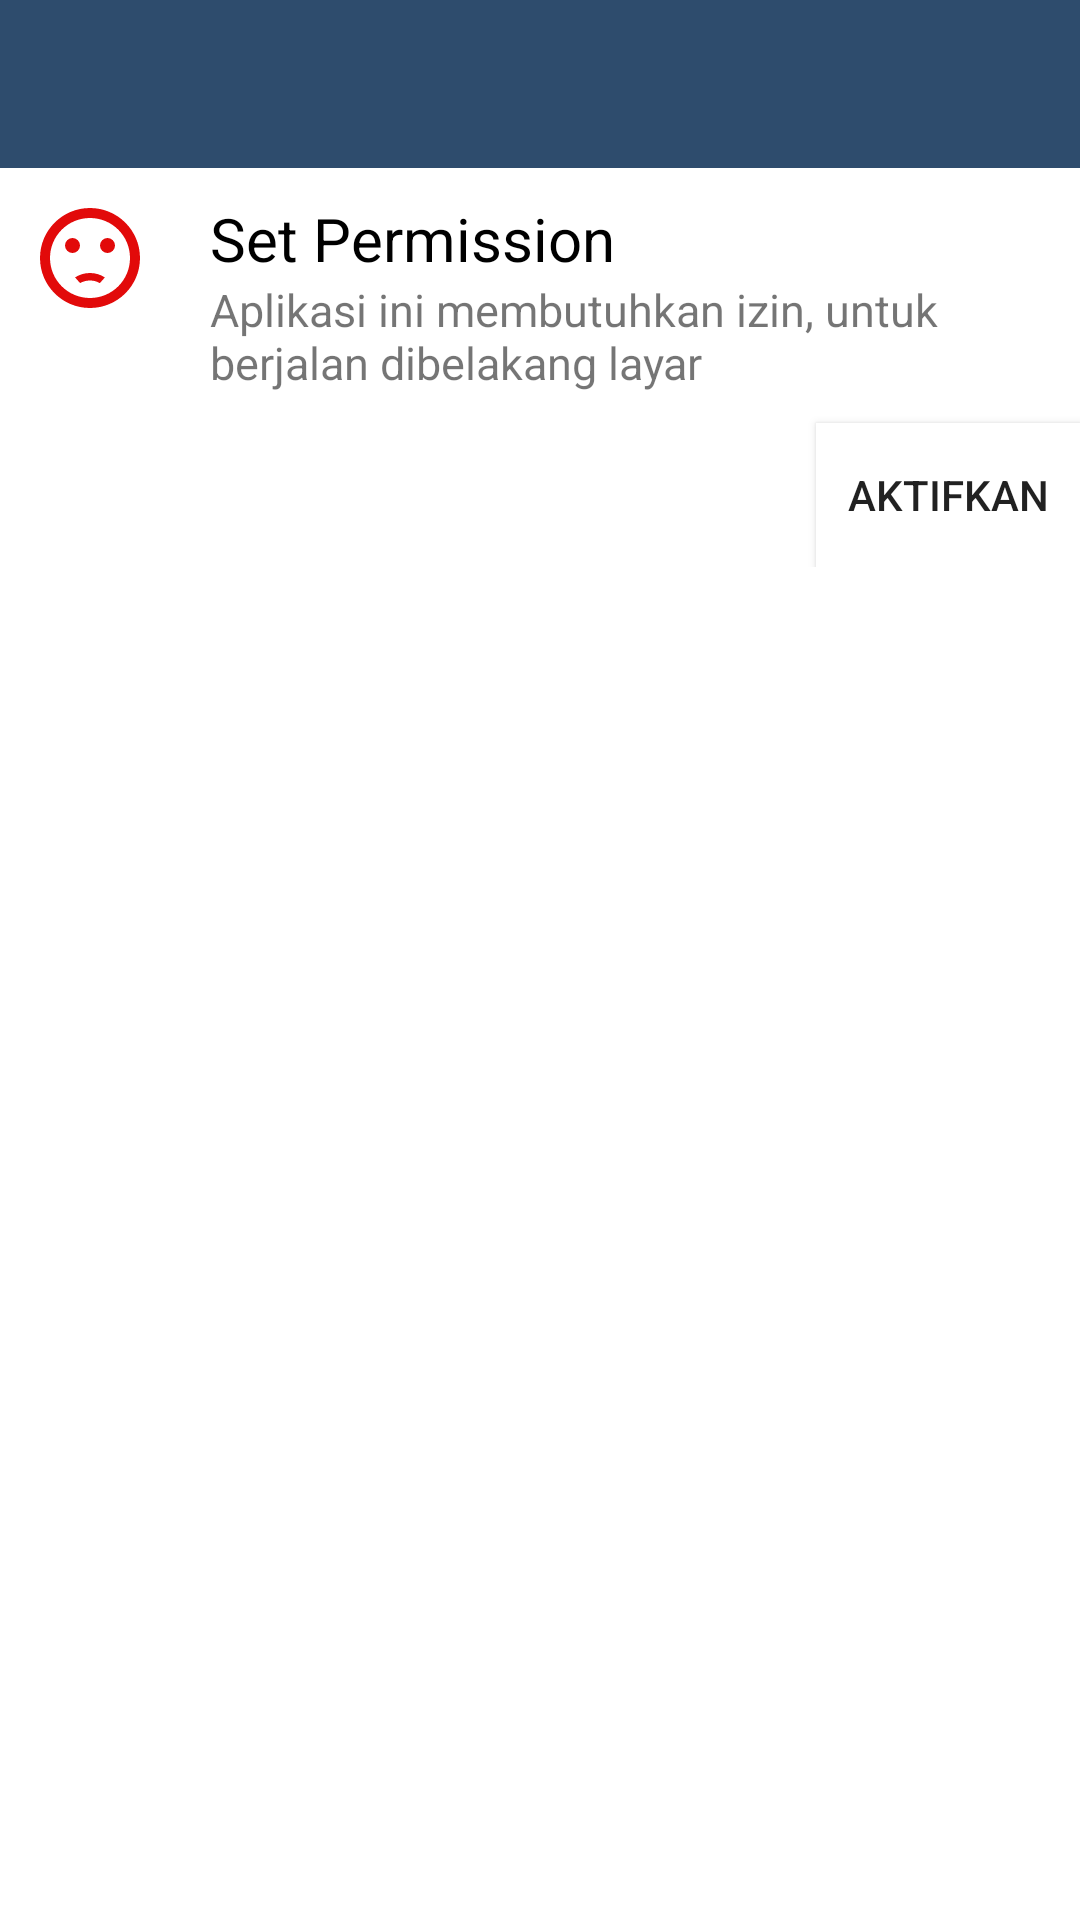

Named icons in this screenshot (1080*1920) and their bounding boxes, (x1, y1, x2, y2):
sentiment dissatisfied: (40, 208, 140, 308)
